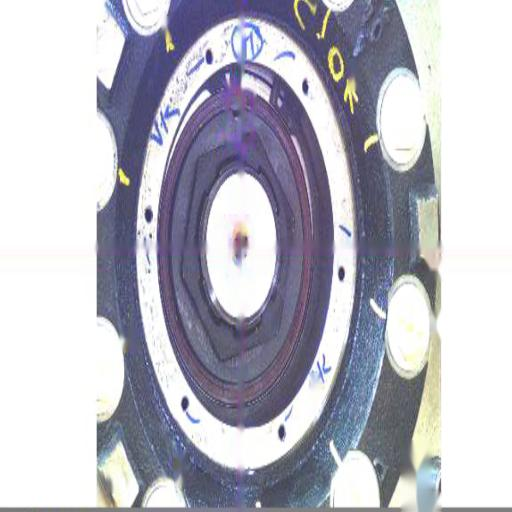center: (228, 228, 251, 260)
notch: (230, 104, 244, 127)
